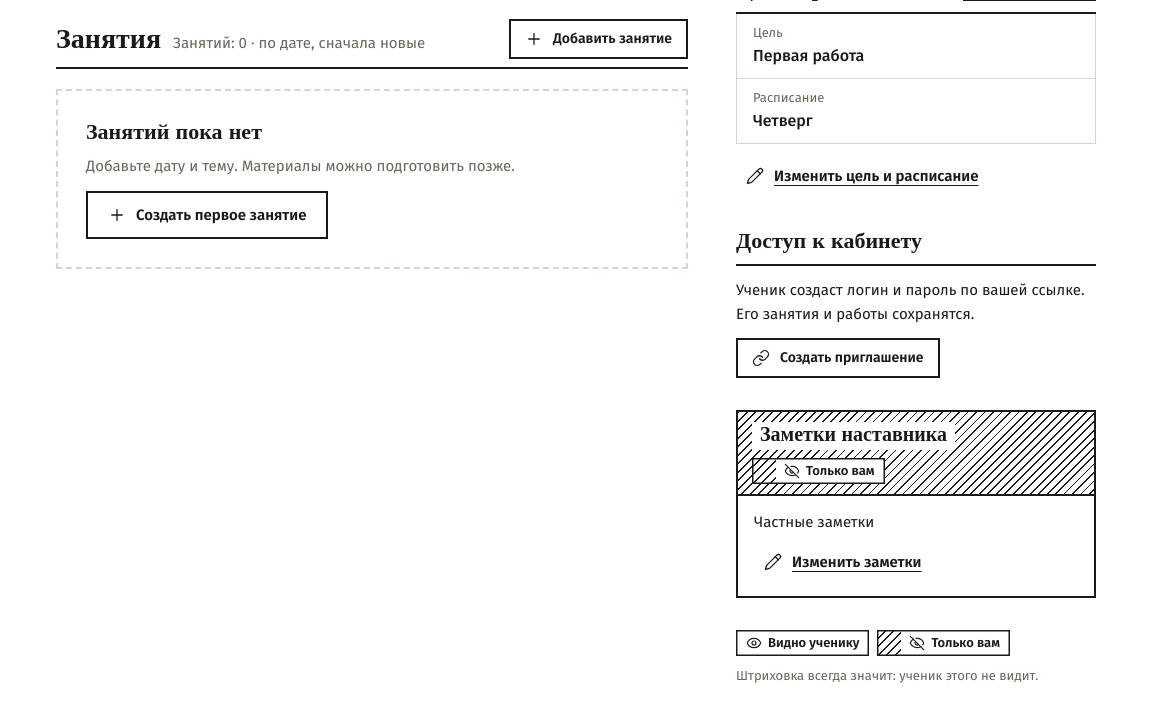
Test case: Student workspace › revokes pending invitation with DELETE then hides its transient link
(page scrolled)
Click the button "Создать приглашение" at (838, 358), box [736, 338, 940, 378]
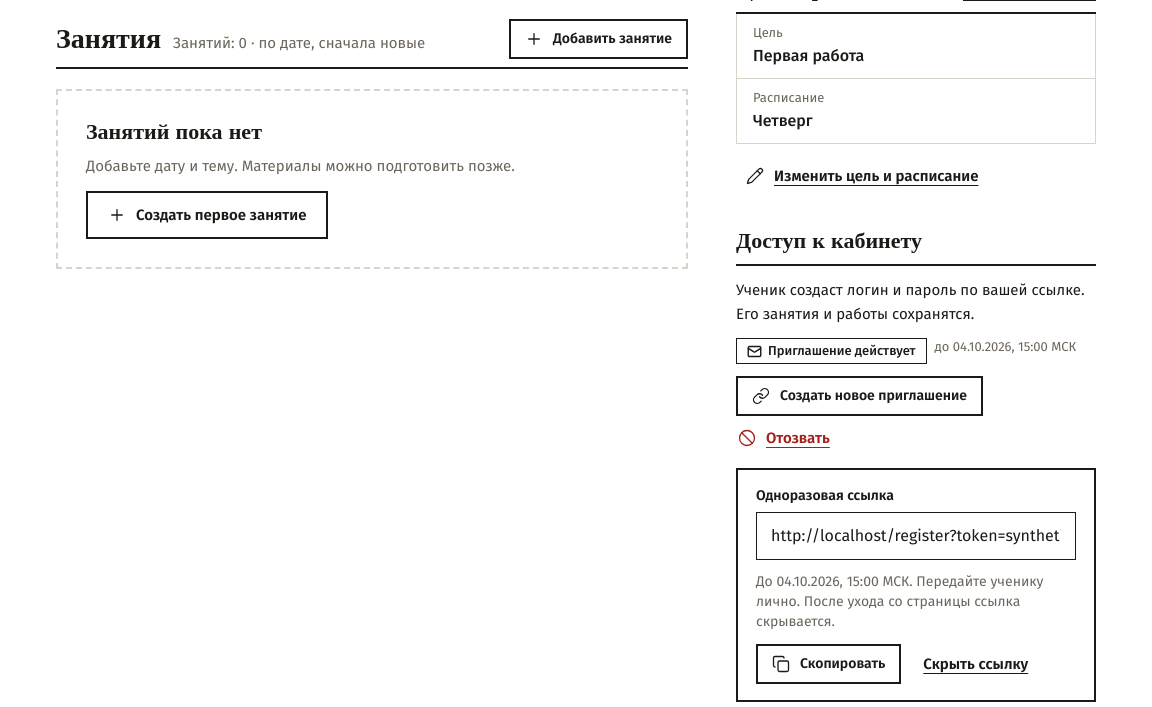
Check: the field named "accessLink" is shown, box [756, 512, 1076, 560]
Check: the button "Отозвать" is shown
Click the button "Отозвать" at (784, 438), box [736, 420, 832, 456]
(page scrolled)
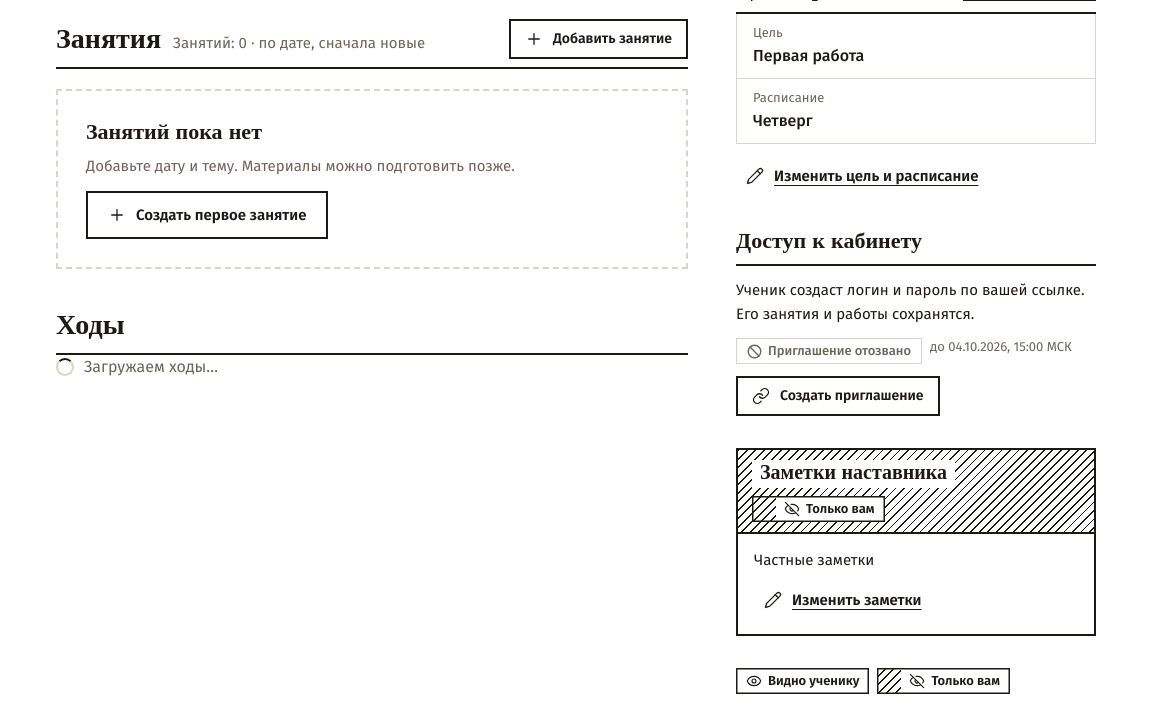
Check: the field named "accessLink" is gone
Check: the text "Приглашение отозвано" is shown, box [736, 338, 922, 364]
